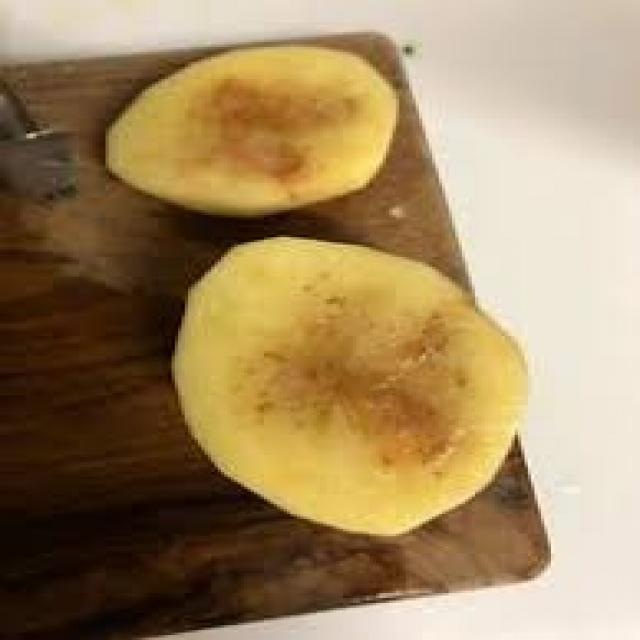organic waste: (165, 232, 524, 536), (99, 42, 399, 215)
